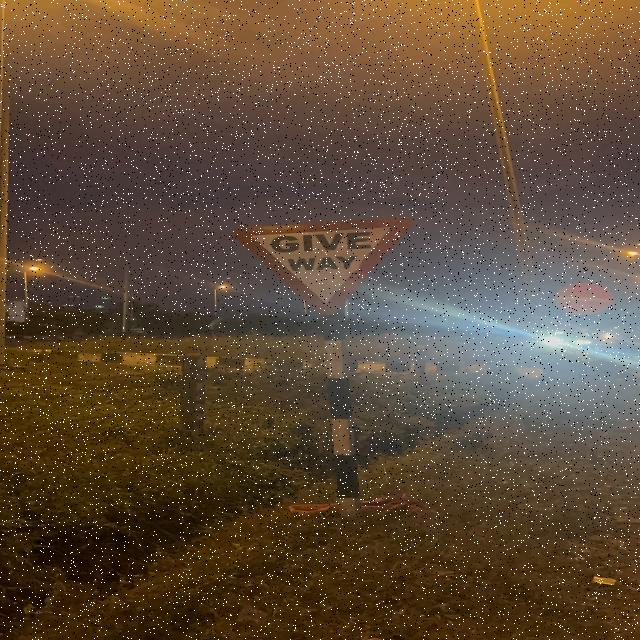giveway: (244, 214, 409, 318)
